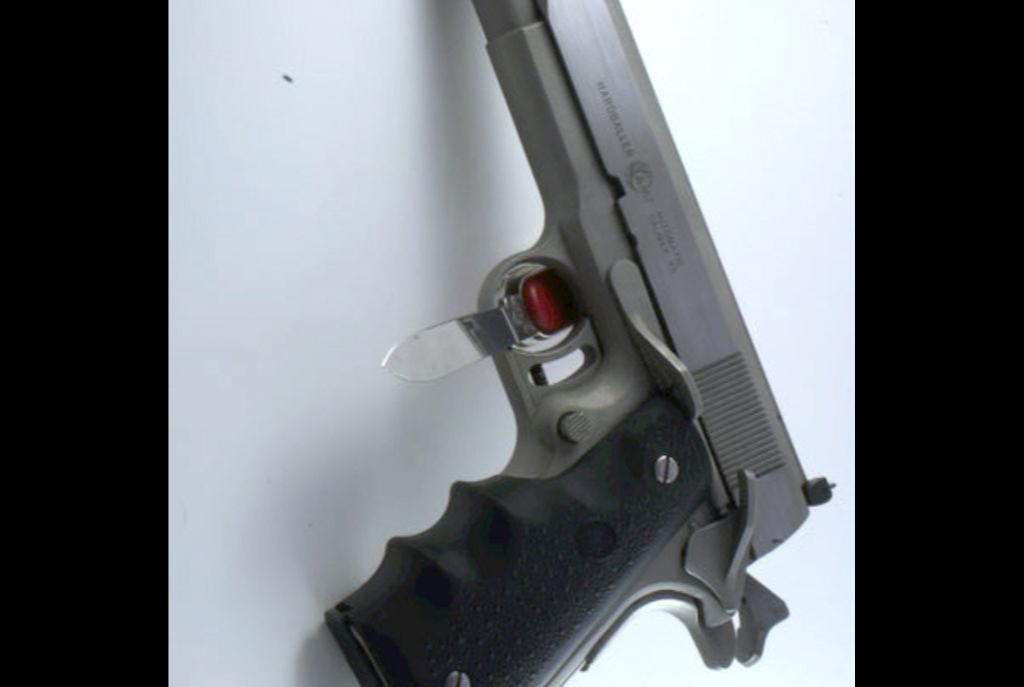gun: (319, 0, 838, 687)
